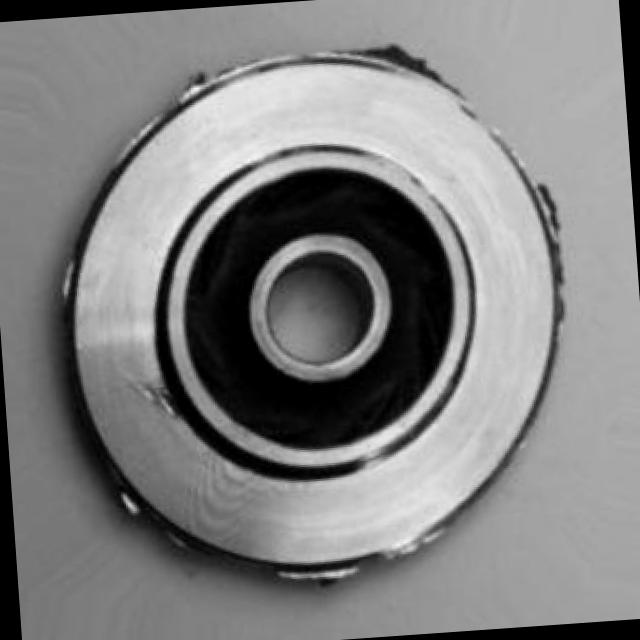Defect: (364, 33, 434, 86)
